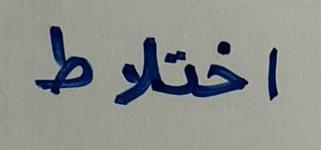alef: (256, 30, 295, 120)
khah: (208, 36, 251, 118)
lam: (107, 27, 158, 110)
tah: (27, 11, 104, 111)
teh: (160, 40, 200, 106)
